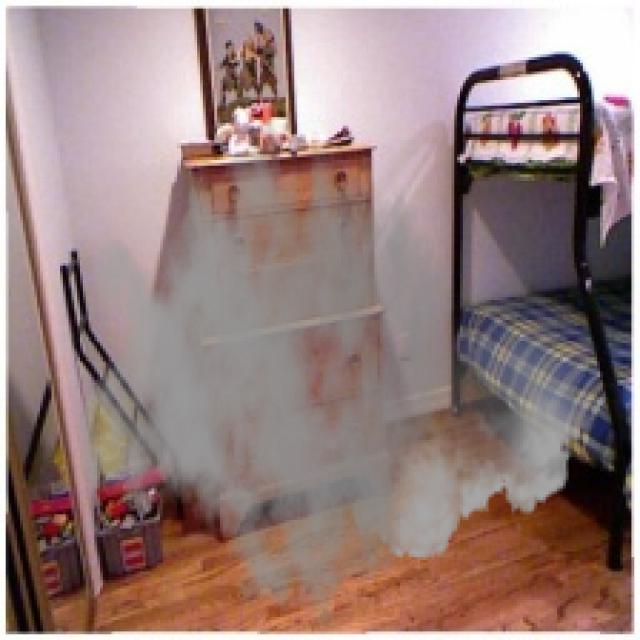smoke: (74, 89, 597, 628)
